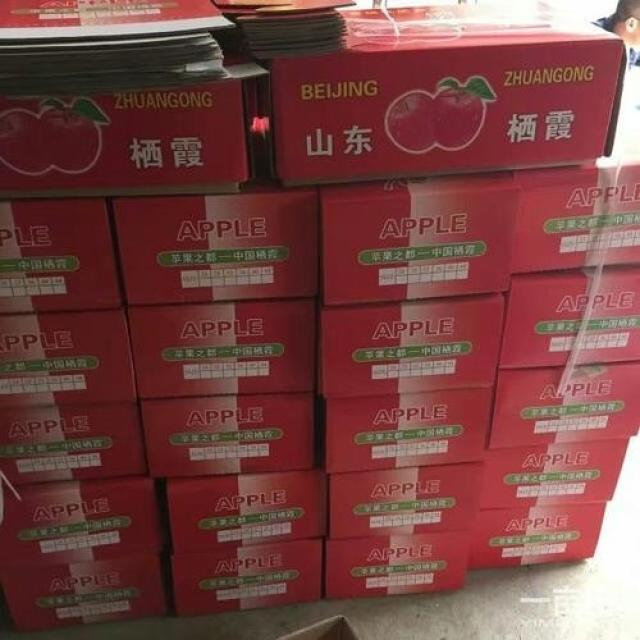box: (274, 0, 630, 186), (0, 81, 251, 197), (113, 174, 320, 306), (320, 172, 518, 306), (319, 292, 508, 401), (125, 297, 320, 401), (508, 124, 640, 275), (0, 475, 161, 575), (0, 197, 127, 316), (137, 392, 317, 475), (499, 265, 640, 370), (326, 389, 497, 475), (0, 308, 138, 408), (165, 465, 329, 549), (1, 550, 169, 628), (0, 406, 154, 490), (490, 361, 640, 447), (173, 534, 329, 614), (326, 462, 485, 539), (477, 439, 631, 508), (326, 532, 472, 598), (468, 504, 608, 570)
